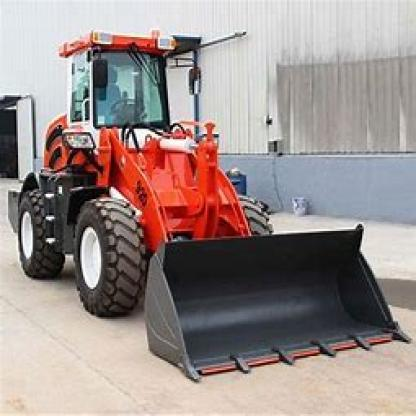bull_dozer/loader/grader: (8, 23, 411, 381)
